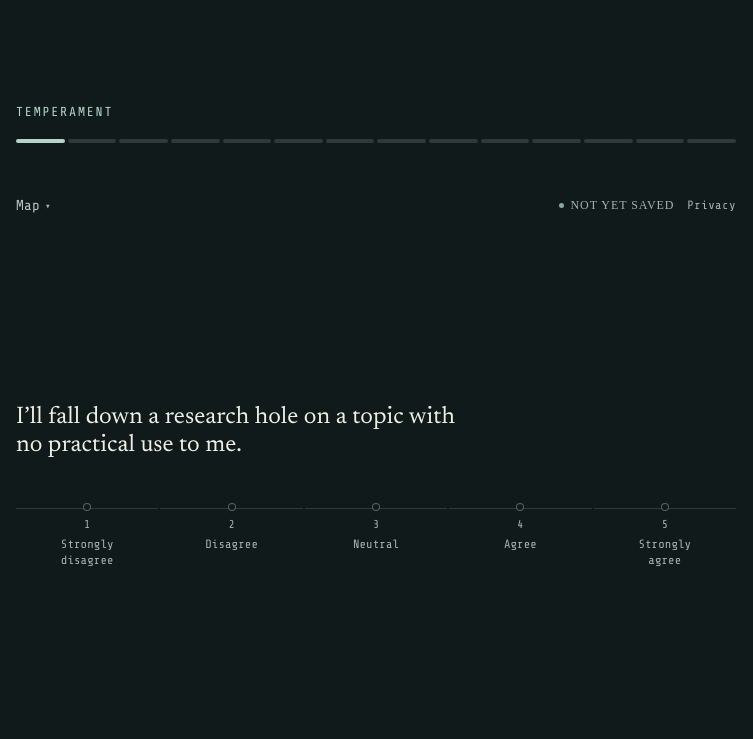
tapping Next/Back › tapping Next after answering advances to the next item
Check: the element named "I’ll fall down a research hole on a topic with no practical" is shown, box [16,508,736,578]
Step 1. Click the radio button labelled "3 Neutral" → click(376, 542), box [305,508,447,578]
(page scrolled)
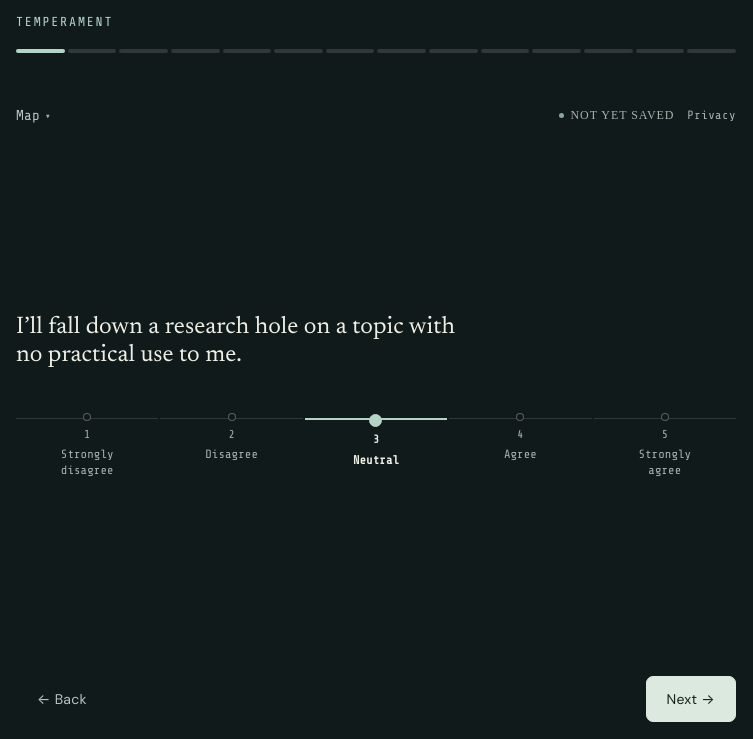
Step 2. Click the button "Next →" → click(691, 699), box [646,676,736,722]
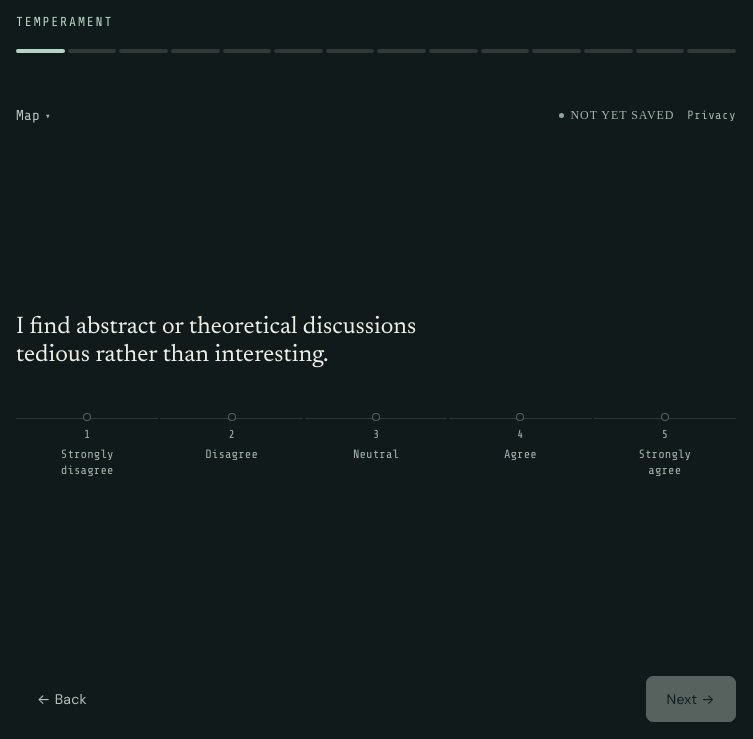
Check: the text "tedious rather than interesting" is shown, box [16,315,416,367]
